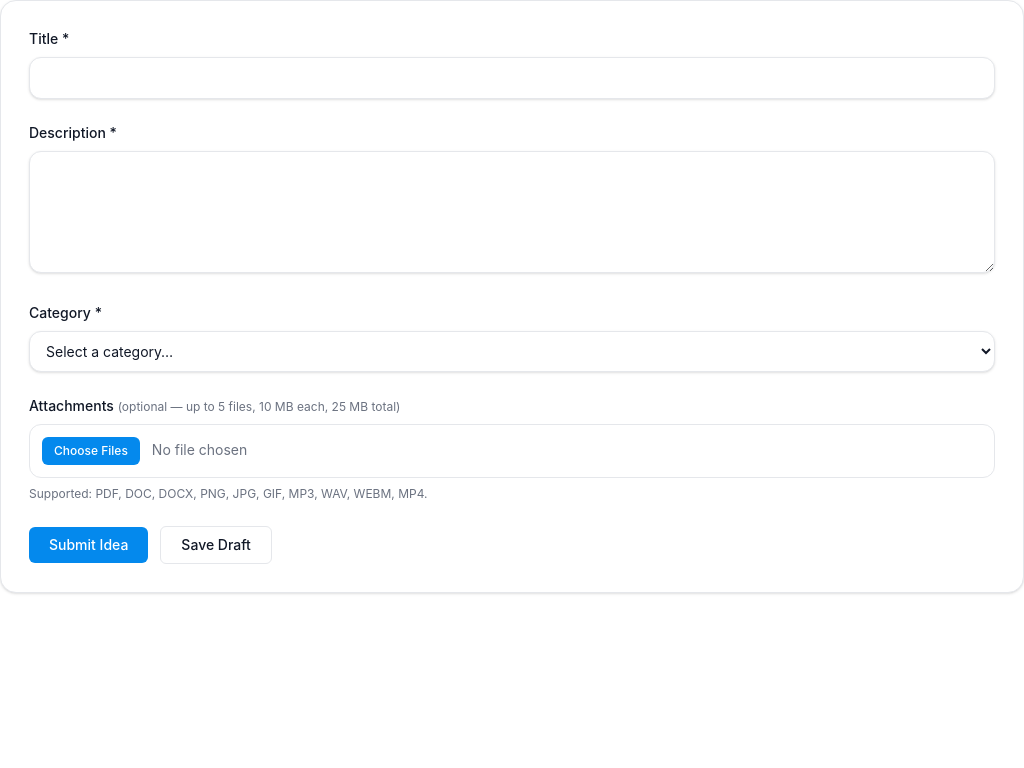
IdeaForm — Save Draft › shows error feedback when draft save fails
What coordinates should you click on to do the following:
click the button "Save Draft"
I would click on:
 (216, 545)
Its box is [160,526,272,564].
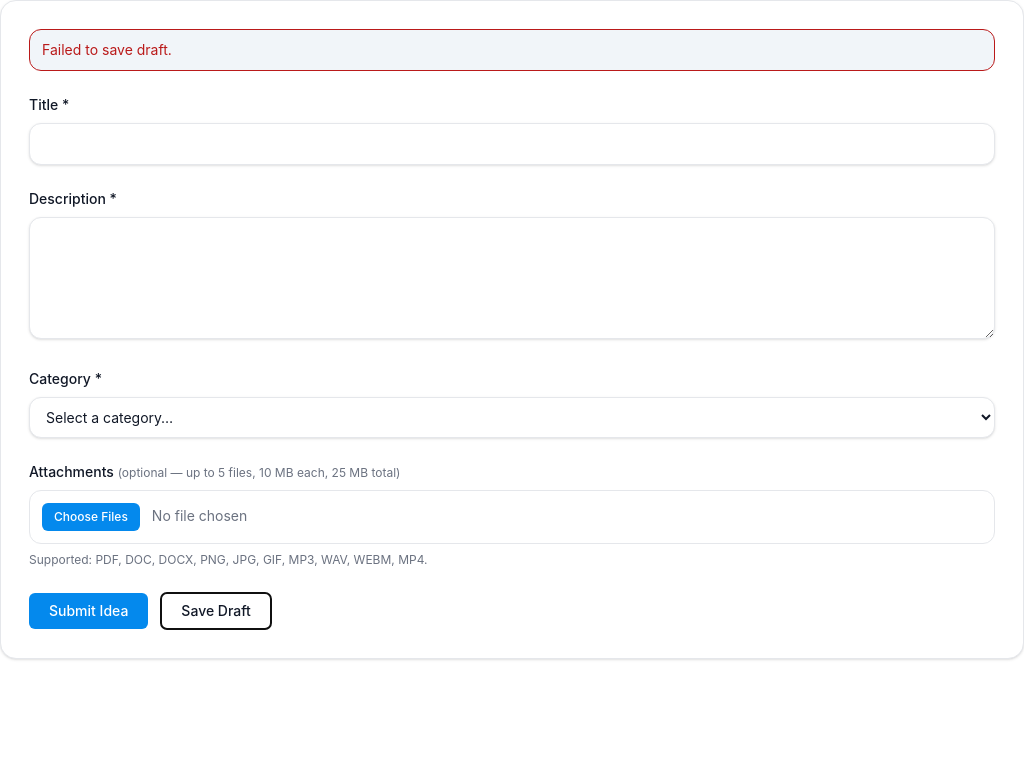
Now the message shows "Failed to save draft", box [42,41,172,58]
